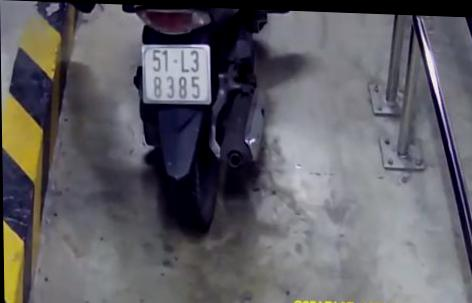License_Plate: (134, 34, 215, 108)
